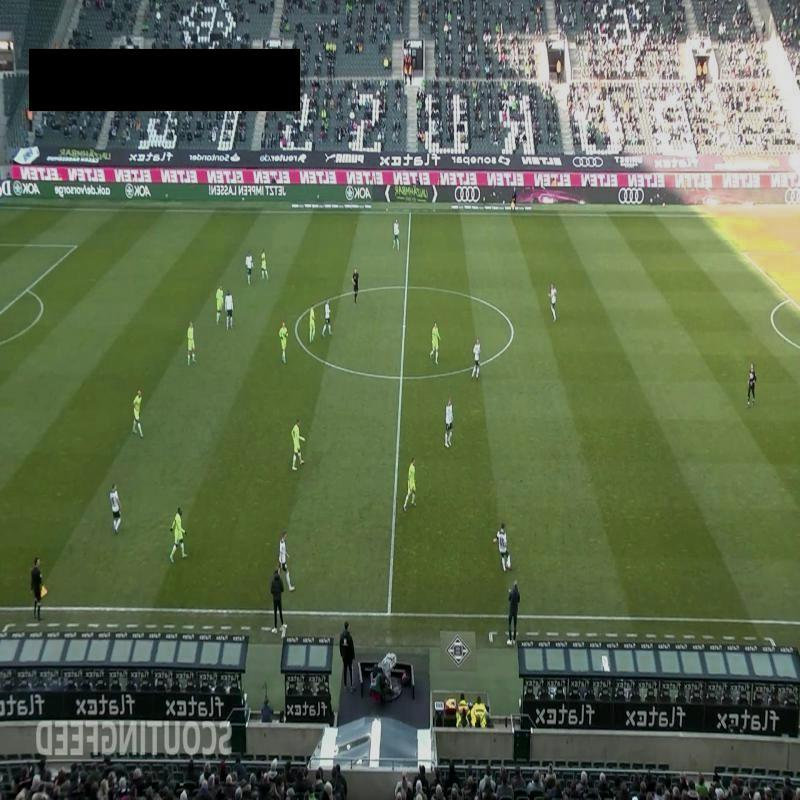10: (15, 280, 37, 300), (782, 290, 798, 308)
13: (404, 204, 418, 217)
14: (400, 279, 415, 295)
15: (393, 370, 410, 386)
16: (380, 602, 397, 624)
9: (733, 244, 753, 262), (66, 237, 86, 254)
c: (503, 318, 522, 344), (290, 320, 304, 334)
